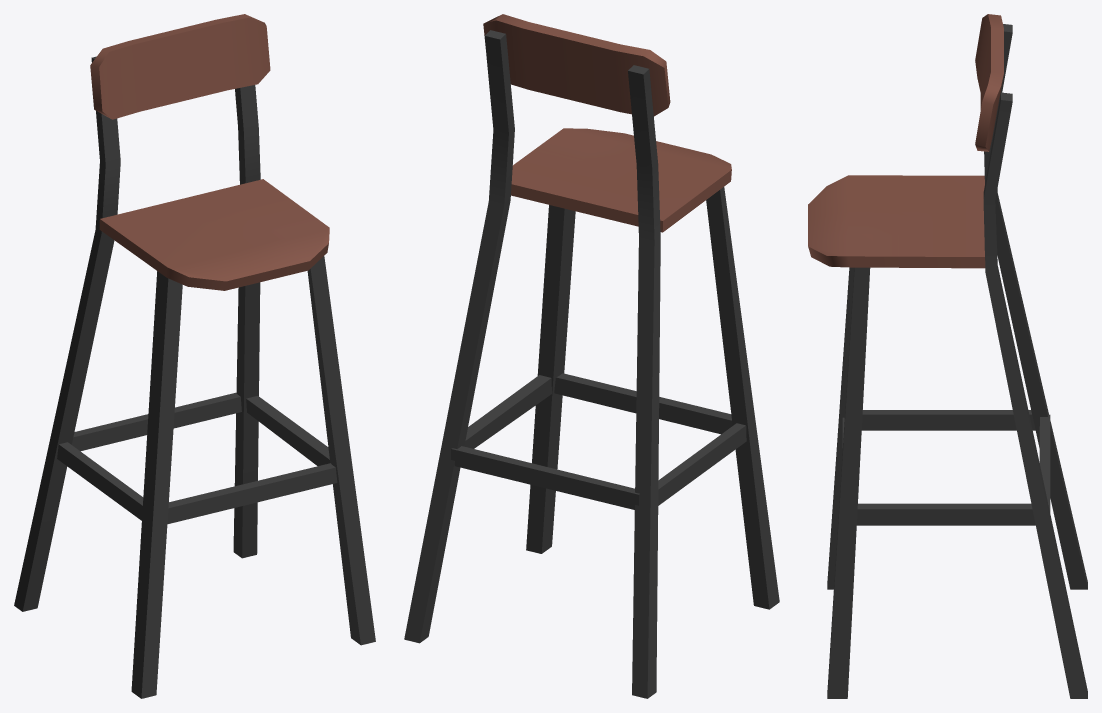
The model's file is kitchen_chair_001.glb.
The picture shows the model from 3 angles, left to right: view 1: azimuth 30°, elevation 25°; view 2: azimuth 150°, elevation 25°; view 3: azimuth 270°, elevation 25°; orthographic projection. The views are drawn at different scales.
Parts seen in each view (by area): view 1: kitchen_chair_001; view 2: kitchen_chair_001; view 3: kitchen_chair_001.
Part boxes in pixels (x1,y1,x2,y2): kitchen_chair_001: (14, 14, 375, 698); kitchen_chair_001: (404, 14, 779, 698); kitchen_chair_001: (808, 14, 1087, 698).
Size of the model in its own units: 0.4919 by 1.16 by 0.4973.
Materials: 1 (1 with a texture image).
